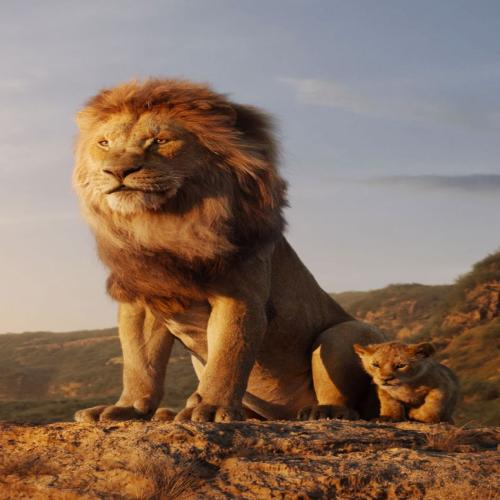lion-endangered: (73, 75, 389, 429), (345, 335, 460, 431)
